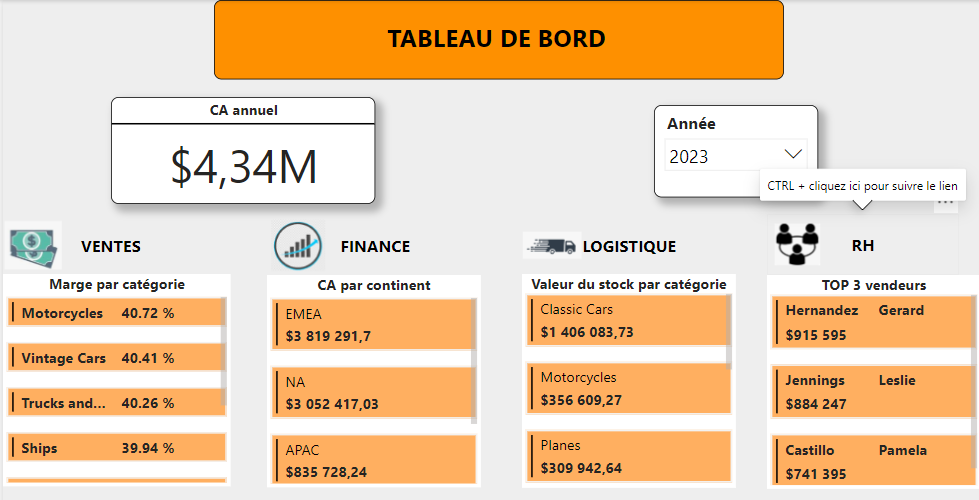

Layout of this report page (visuals, bound fields, positions):
{"tool":"powerbi","page":{"name":"ACCUEIL","canvas":[1280,720],"ordinal":0},"visuals":[{"type":"multiRowCard","title":"TOP 3 vendeurs","fields":{"Values":["1RH.nom","1RH.prenom","1RH.CA_mois"]},"box":[999.9,359.9,280.1,280.1],"z":0},{"type":"textbox","box":[276,0,746.3,104.3],"z":1000},{"type":"card","title":"CA annuel","fields":{"Values":["1RH.CA_mois"]},"box":[141.1,126.7,345.6,139.7],"z":2000},{"type":"actionButton","box":[346.5,280.9,280.9,79.1],"z":3000},{"type":"actionButton","box":[0,280.9,282.6,79.1],"z":4000},{"type":"actionButton","box":[679.5,280.9,280.9,79.1],"z":5000},{"type":"actionButton","box":[999.9,280.1,251.5,79.7],"z":6000},{"type":"multiRowCard","title":"CA par continent","fields":{"Values":["0FIN CA par contient.Total_CA","0FIN CA par contient.region"]},"box":[345.6,359.9,280.1,278.1],"z":7000},{"type":"multiRowCard","title":"Marge par catégorie","fields":{"Values":["Marge_moy.Categ","Marge_moy.Marge_moy"]},"box":[0,358.7,298.5,277.5],"z":8000},{"type":"multiRowCard","title":"Valeur du stock par catégorie","fields":{"Values":["2LOG Valeur du stock par cat.productLine","2LOG Valeur du stock par cat.Stock_valeur"]},"box":[679.4,359,280.2,280.2],"z":9000},{"type":"slicer","fields":{"Values":["1RH.Année"]},"box":[852.5,136.8,214.6,121],"z":10000}]}

Visuals, with their boxes on the page's 1280x720 design canvas (x1, y1, x2, y2). These are canvas units, not pixel positions in the 979x500 screenshot, which may show the page scaled, cropped or inside an application window:
"TOP 3 vendeurs" multiRowCard: box(1000, 360, 1280, 640)
textbox: box(276, 0, 1022, 104)
"CA annuel" card: box(141, 127, 487, 266)
actionButton: box(346, 281, 627, 360)
actionButton: box(0, 281, 283, 360)
actionButton: box(680, 281, 960, 360)
actionButton: box(1000, 280, 1251, 360)
"CA par continent" multiRowCard: box(346, 360, 626, 638)
"Marge par catégorie" multiRowCard: box(0, 359, 298, 636)
"Valeur du stock par catégorie" multiRowCard: box(679, 359, 960, 639)
slicer - 1RH.Année: box(852, 137, 1067, 258)
